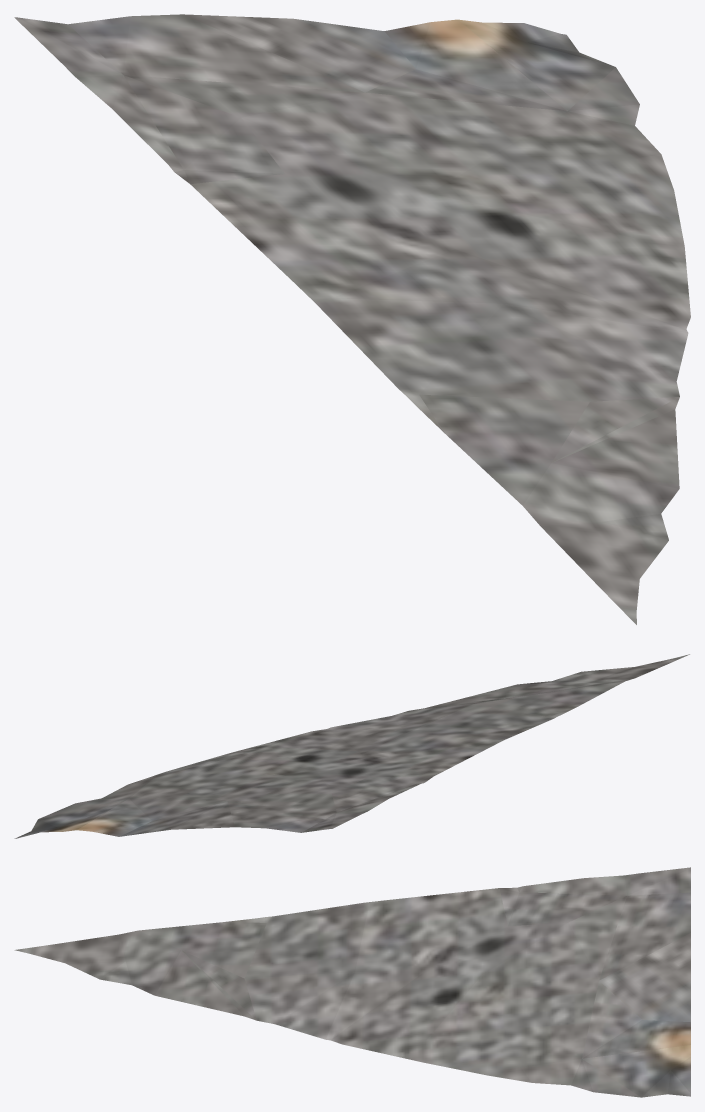
3 views of the same model, one above another, from view 1: azimuth 30°, elevation 25°; view 2: azimuth 150°, elevation 25°; view 3: azimuth 270°, elevation 25° (orthographic). The views are drawn at different scales.
Size of the model in its own units: 0.38 by 0.0993 by 0.737.
Materials: 1 (1 with a texture image).
